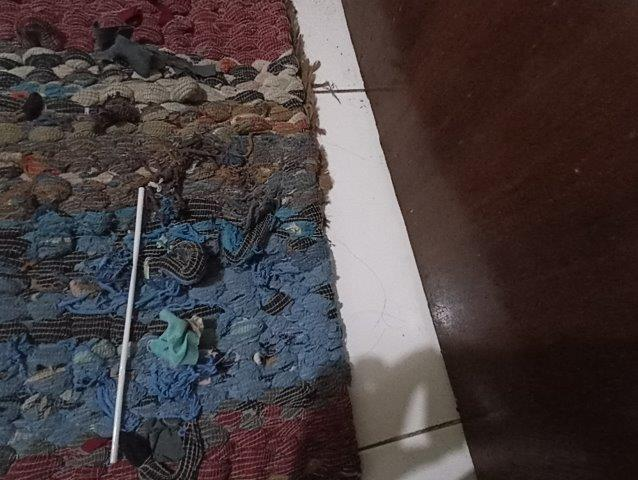sedotan: (110, 188, 144, 462)
